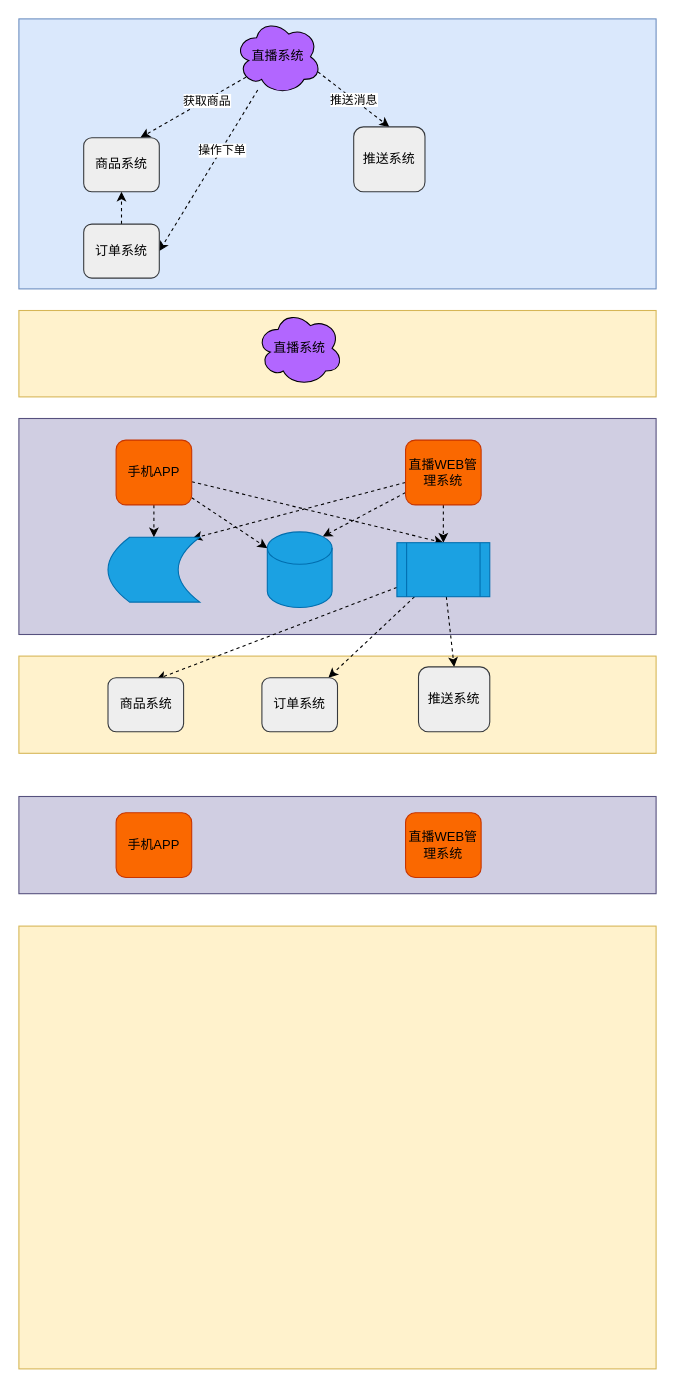
Image size: 675x1388. Some labels were removed from this diagram. The centre of each missing label's shape, as x and y in pixels:
"API-application" goes at (443,569).
"mysql database" goes at (299,569).
"redis" goes at (153,569).
